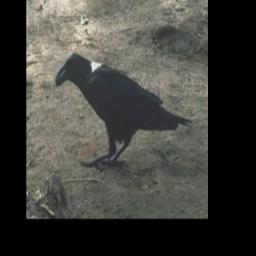Crow: (55, 50, 195, 171)
